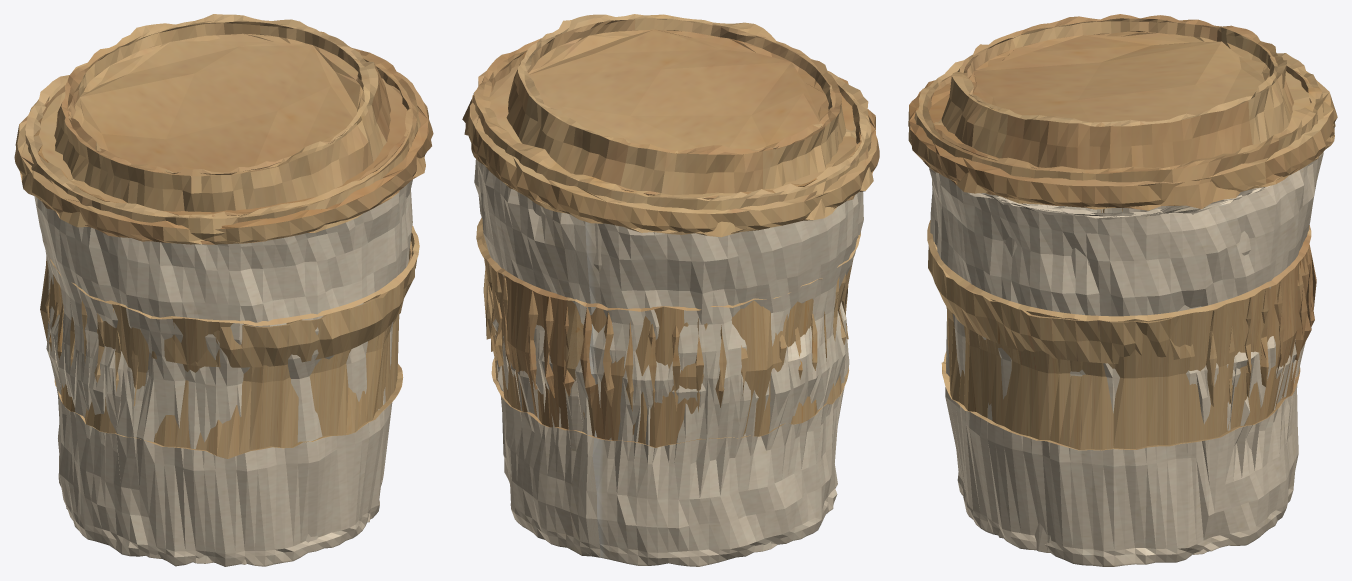
The model's file is crush_low_0.obj.
3 renders of one model, left to right at view 1: azimuth 30°, elevation 25°; view 2: azimuth 150°, elevation 25°; view 3: azimuth 270°, elevation 25°, orthographic. The views are drawn at different scales.
Visible parts, largest first — view 1: model; view 2: model; view 3: model.
Boxes of the visible parts, box(x1,y1,x2,y2) form: model: box(14, 14, 433, 566); model: box(462, 14, 879, 566); model: box(908, 14, 1337, 566).
Size of the model in its own units: 0.0696 by 0.0791 by 0.0697.
1 material, 1 textured.
